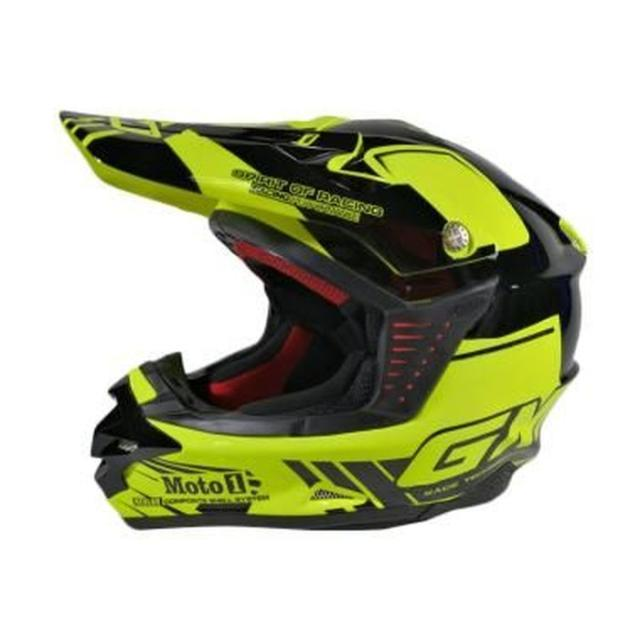Helm: (49, 94, 590, 530)
